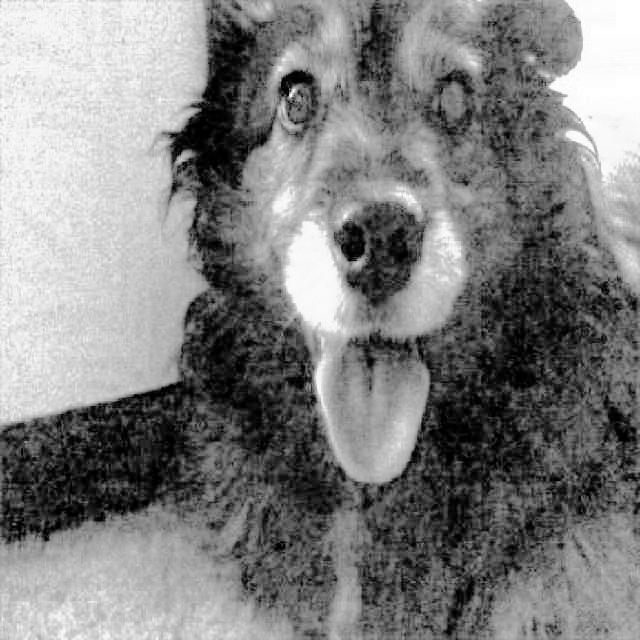Dog: (151, 0, 640, 640)
